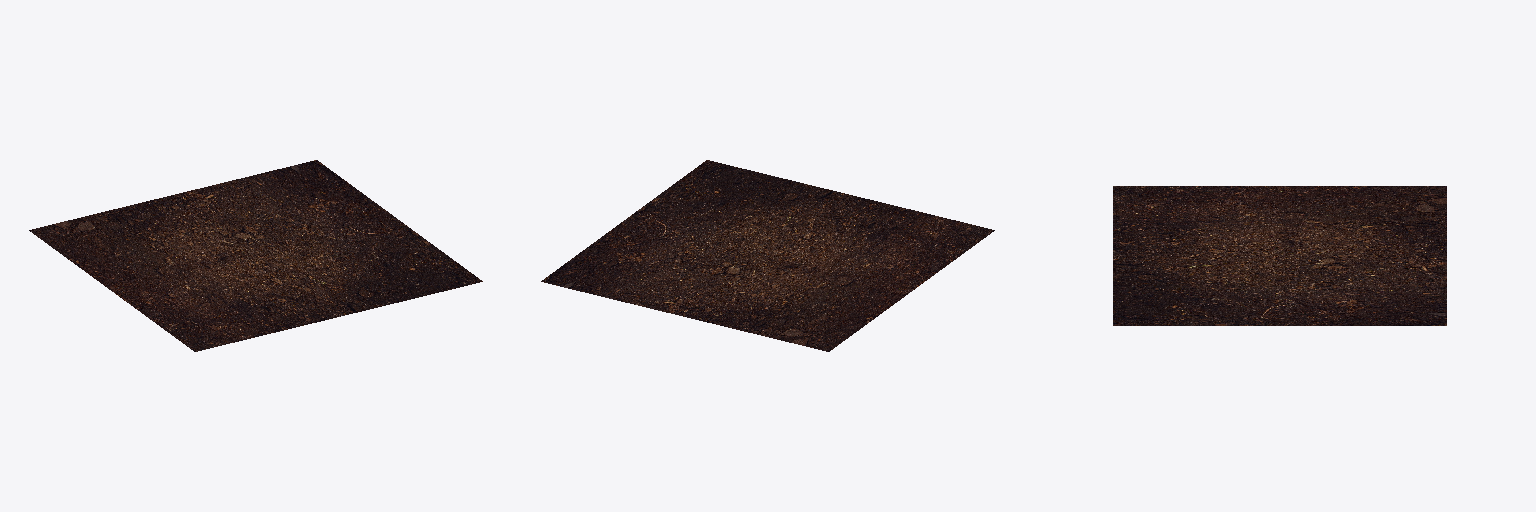
3 views of the same model, side by side, from view 1: azimuth 30°, elevation 25°; view 2: azimuth 150°, elevation 25°; view 3: azimuth 270°, elevation 25° (orthographic).
Visible parts, largest first — view 1: Plane001; view 2: Plane001; view 3: Plane001.
Part boxes in pixels (x1,y1,x2,y2): Plane001: (29, 160, 482, 351); Plane001: (541, 160, 994, 351); Plane001: (1113, 186, 1446, 325).
Size of the model in its own units: 2 by 0 by 2.
1 materials, 1 textured.